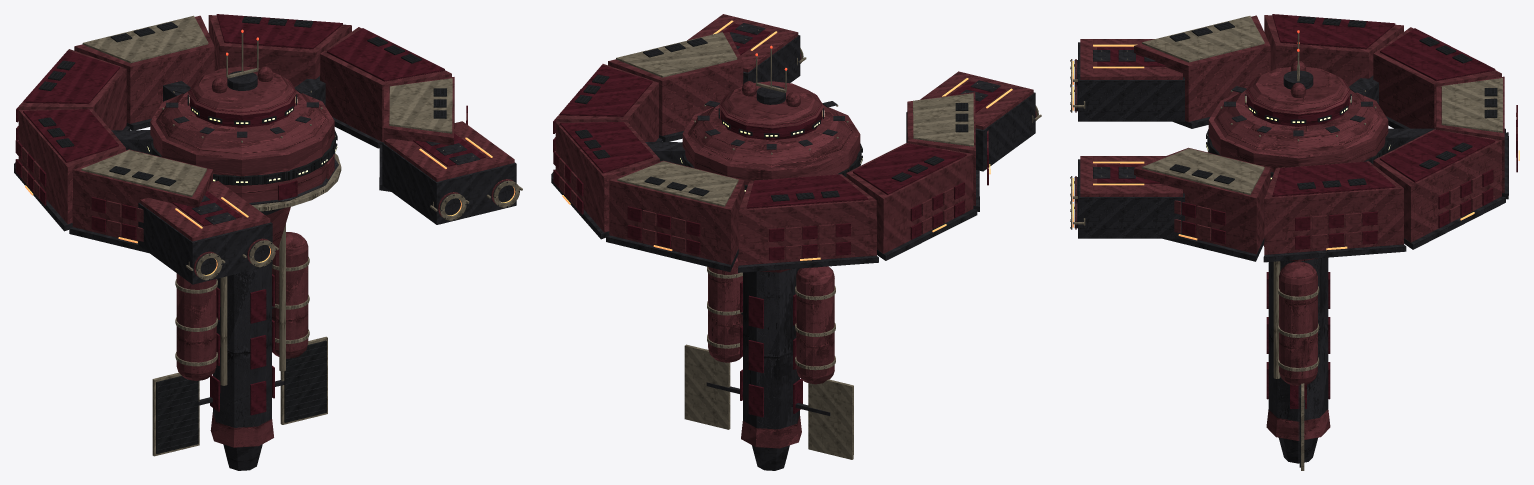
File: kestrel_depot_pirate.glb
3 views of the same model, side by side, from view 1: azimuth 30°, elevation 25°; view 2: azimuth 150°, elevation 25°; view 3: azimuth 270°, elevation 25° (orthographic). The views are drawn at different scales.
Parts seen in each view (by area): view 1: Stationary_Body_Industrial_Hull, Stationary_Body_Industrial_Frame, Stationary_Body_Industrial_Accent, Stationary_Body_Industrial_Trim, Stationary_Body_Industrial_Dark, Stationary_Body_Industrial_Guide; view 2: Stationary_Body_Industrial_Hull, Stationary_Body_Industrial_Accent, Stationary_Body_Industrial_Frame, Stationary_Body_Industrial_Trim, Stationary_Body_Industrial_Dark, Stationary_Body_Industrial_Guide; view 3: Stationary_Body_Industrial_Hull, Stationary_Body_Industrial_Frame, Stationary_Body_Industrial_Accent, Stationary_Body_Industrial_Trim, Stationary_Body_Industrial_Dark, Stationary_Body_Industrial_Guide.
Boxes of the visible parts, left/top/right/bottom form: Stationary_Body_Industrial_Hull: left=18, top=15, right=514, bottom=447; Stationary_Body_Industrial_Frame: left=14, top=17, right=519, bottom=470; Stationary_Body_Industrial_Accent: left=15, top=14, right=485, bottom=415; Stationary_Body_Industrial_Trim: left=81, top=15, right=522, bottom=456; Stationary_Body_Industrial_Dark: left=38, top=16, right=446, bottom=453; Stationary_Body_Industrial_Guide: left=25, top=137, right=515, bottom=275; Stationary_Body_Industrial_Hull: left=555, top=14, right=1036, bottom=448; Stationary_Body_Industrial_Accent: left=553, top=23, right=1005, bottom=417; Stationary_Body_Industrial_Frame: left=551, top=23, right=1035, bottom=470; Stationary_Body_Industrial_Trim: left=616, top=26, right=1041, bottom=459; Stationary_Body_Industrial_Dark: left=574, top=38, right=968, bottom=201; Stationary_Body_Industrial_Guide: left=562, top=20, right=1012, bottom=260; Stationary_Body_Industrial_Hull: left=1075, top=15, right=1517, bottom=440; Stationary_Body_Industrial_Frame: left=1070, top=17, right=1508, bottom=463; Stationary_Body_Industrial_Accent: left=1097, top=14, right=1517, bottom=408; Stationary_Body_Industrial_Trim: left=1071, top=16, right=1502, bottom=470; Stationary_Body_Industrial_Dark: left=1169, top=16, right=1497, bottom=467; Stationary_Body_Industrial_Guide: left=1072, top=44, right=1519, bottom=250.
Bounding box in the file's own units: 107 × 112 × 106.
8 materials, 5 textured.
